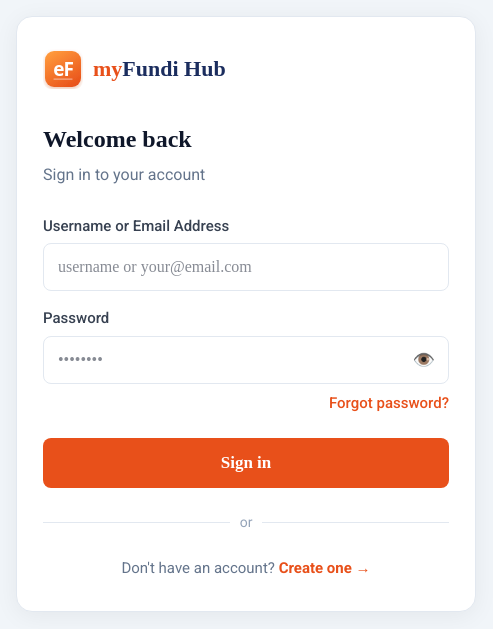
LoginPage › disables the submit button while the request is in-flight
The width and height of the screenshot is (493, 629).
In the field named "username": (246, 267) [43, 243, 449, 291], type "alice"
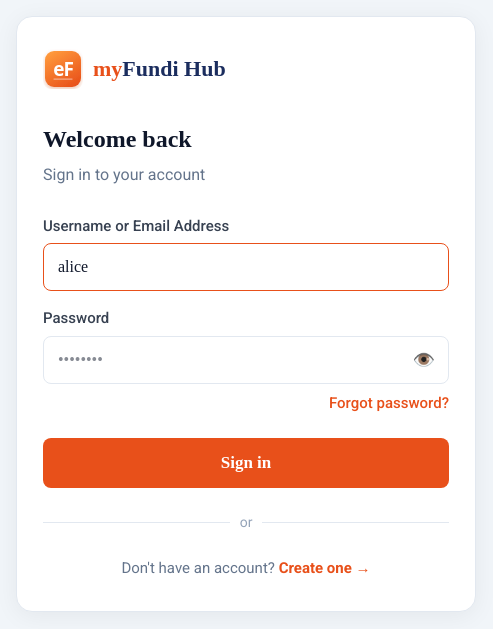
In the password field named "password": (246, 360) [43, 336, 449, 384], type "pass"
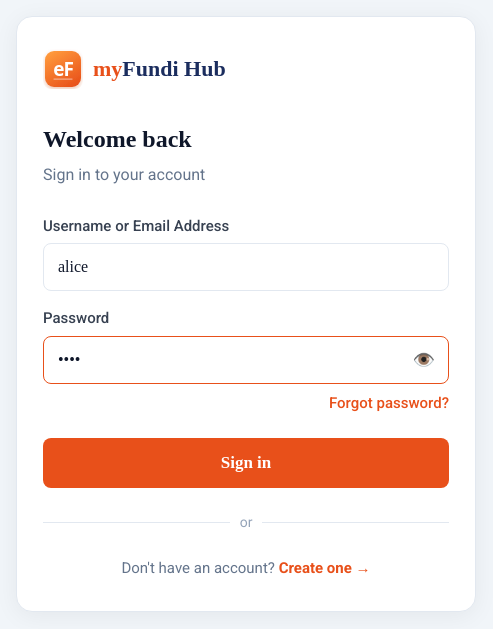
Click the button "Sign in": click(246, 463) [43, 438, 449, 488]
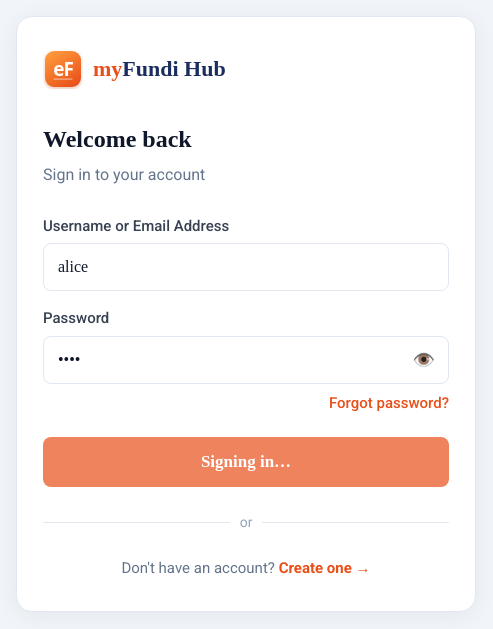
Result: the button "Signing in…" is disabled at [43, 437, 449, 487]
